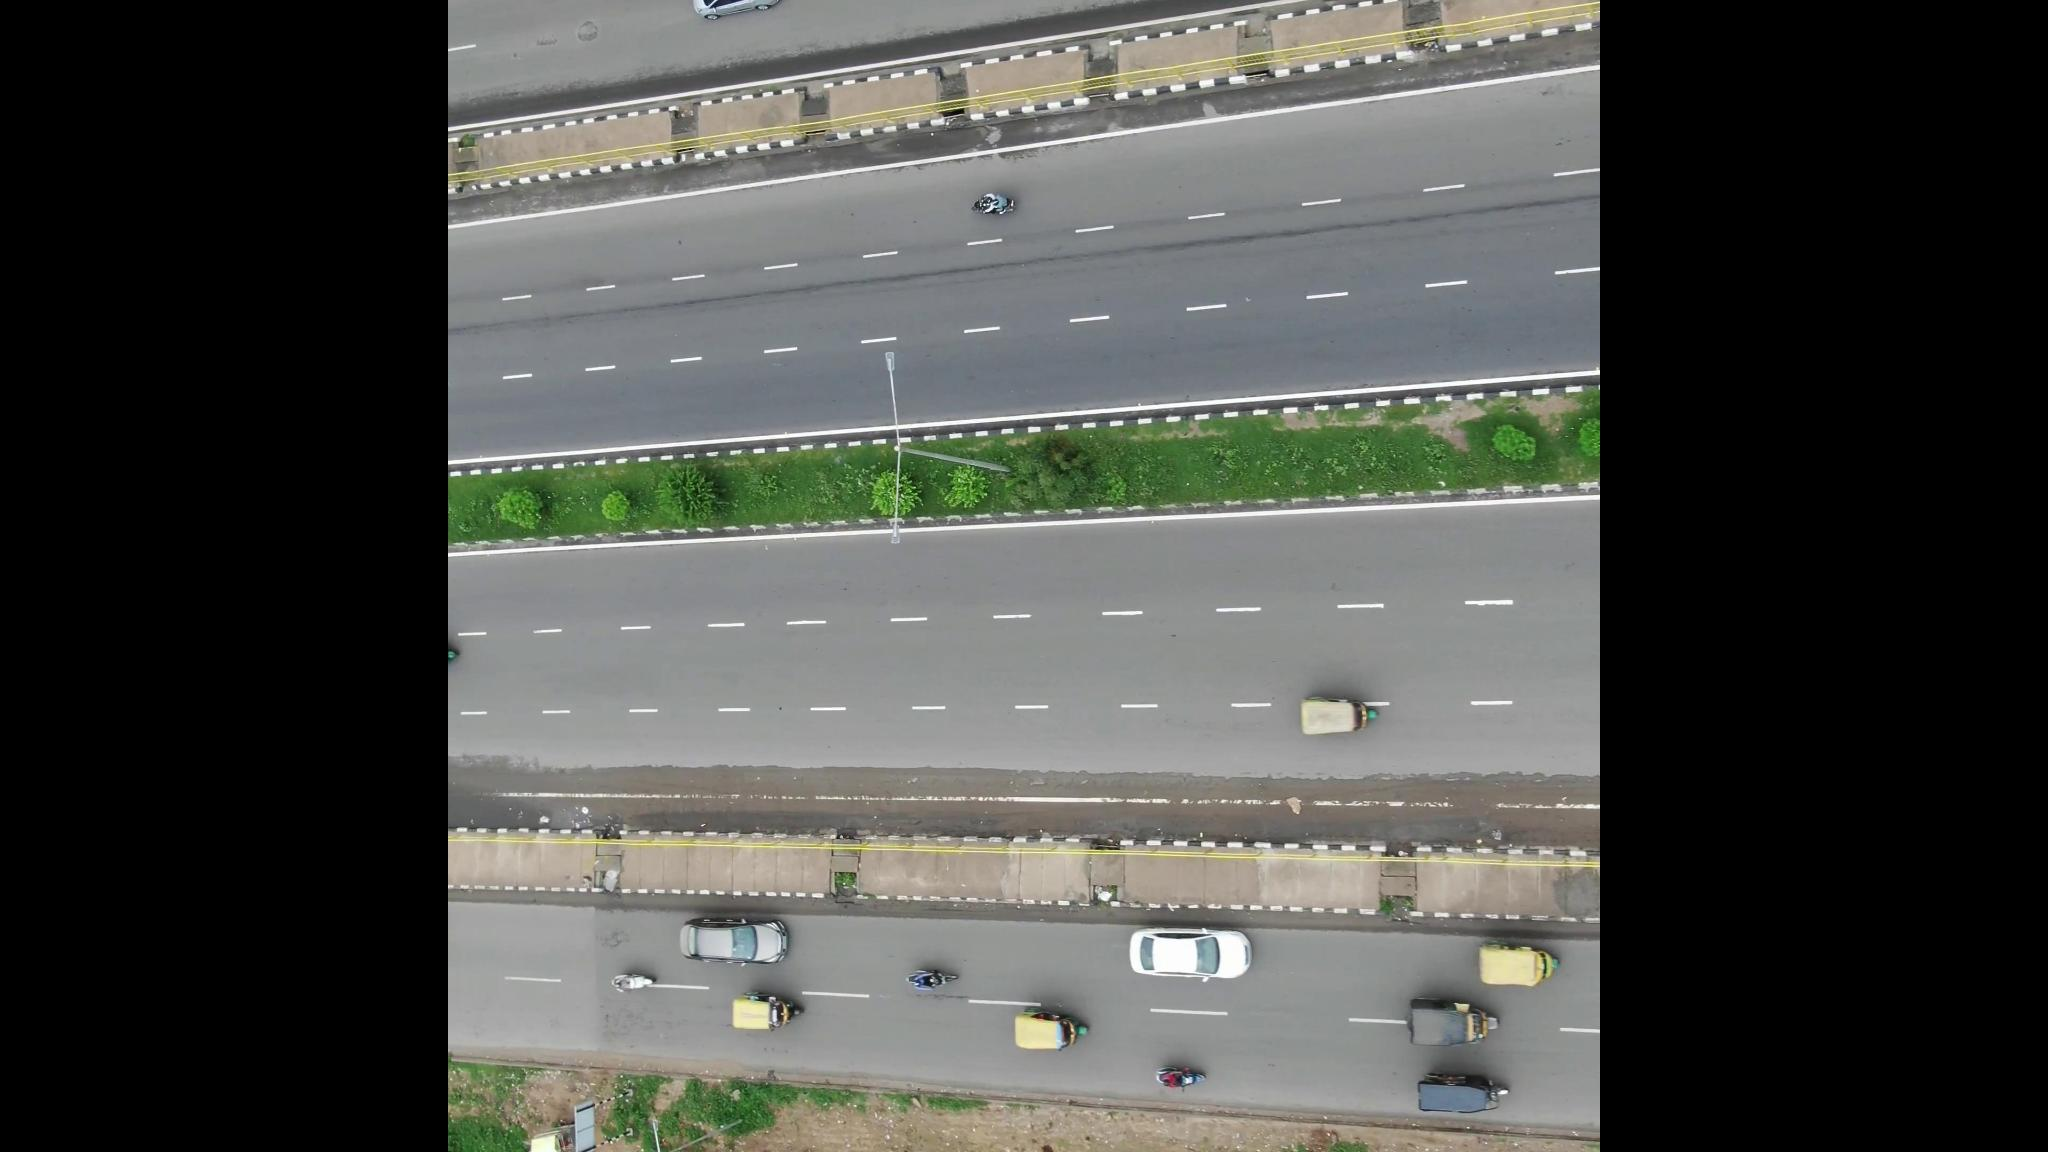Muddy_road: (785, 757, 1217, 838), (1218, 755, 1595, 841), (450, 760, 786, 831)
